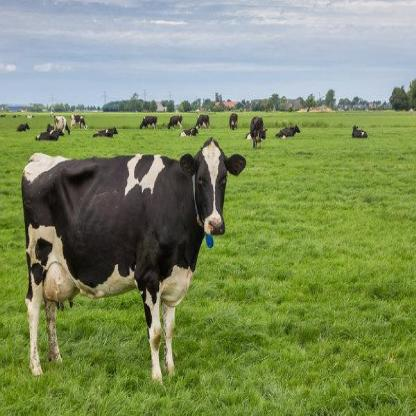cow: (22, 138, 248, 384), (249, 114, 265, 150), (50, 111, 72, 137), (274, 123, 301, 139), (138, 115, 158, 132), (93, 125, 118, 138), (70, 113, 88, 131), (166, 114, 183, 132), (34, 130, 59, 142), (45, 122, 65, 137), (245, 127, 269, 139), (195, 113, 211, 131), (180, 124, 199, 137), (351, 123, 368, 136), (230, 112, 239, 132), (16, 121, 31, 132)
